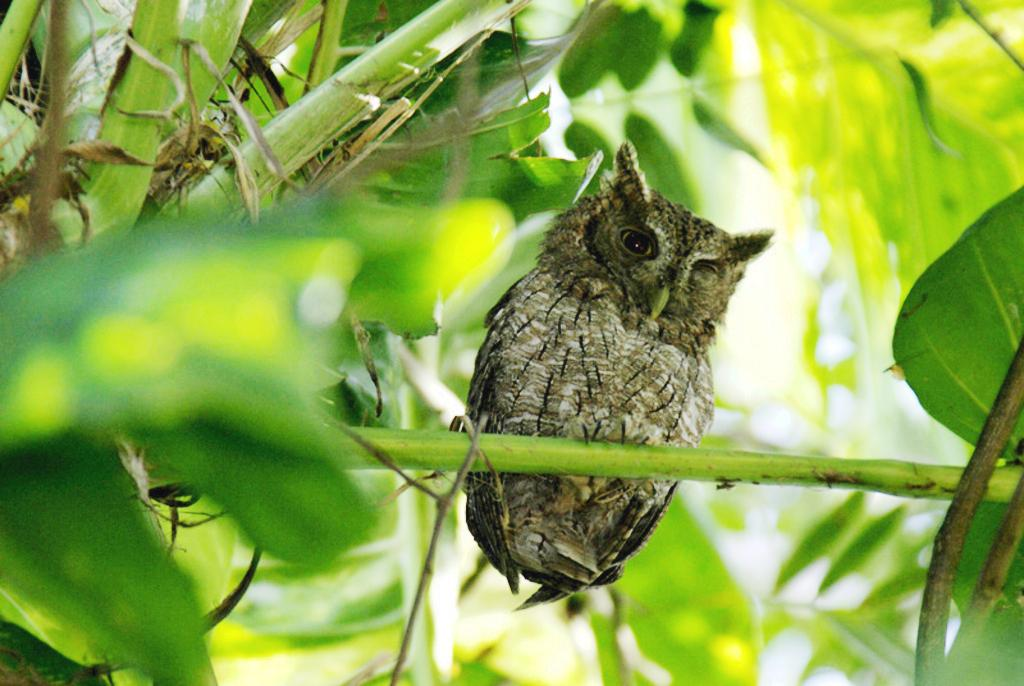Owl: (462, 142, 781, 609)
